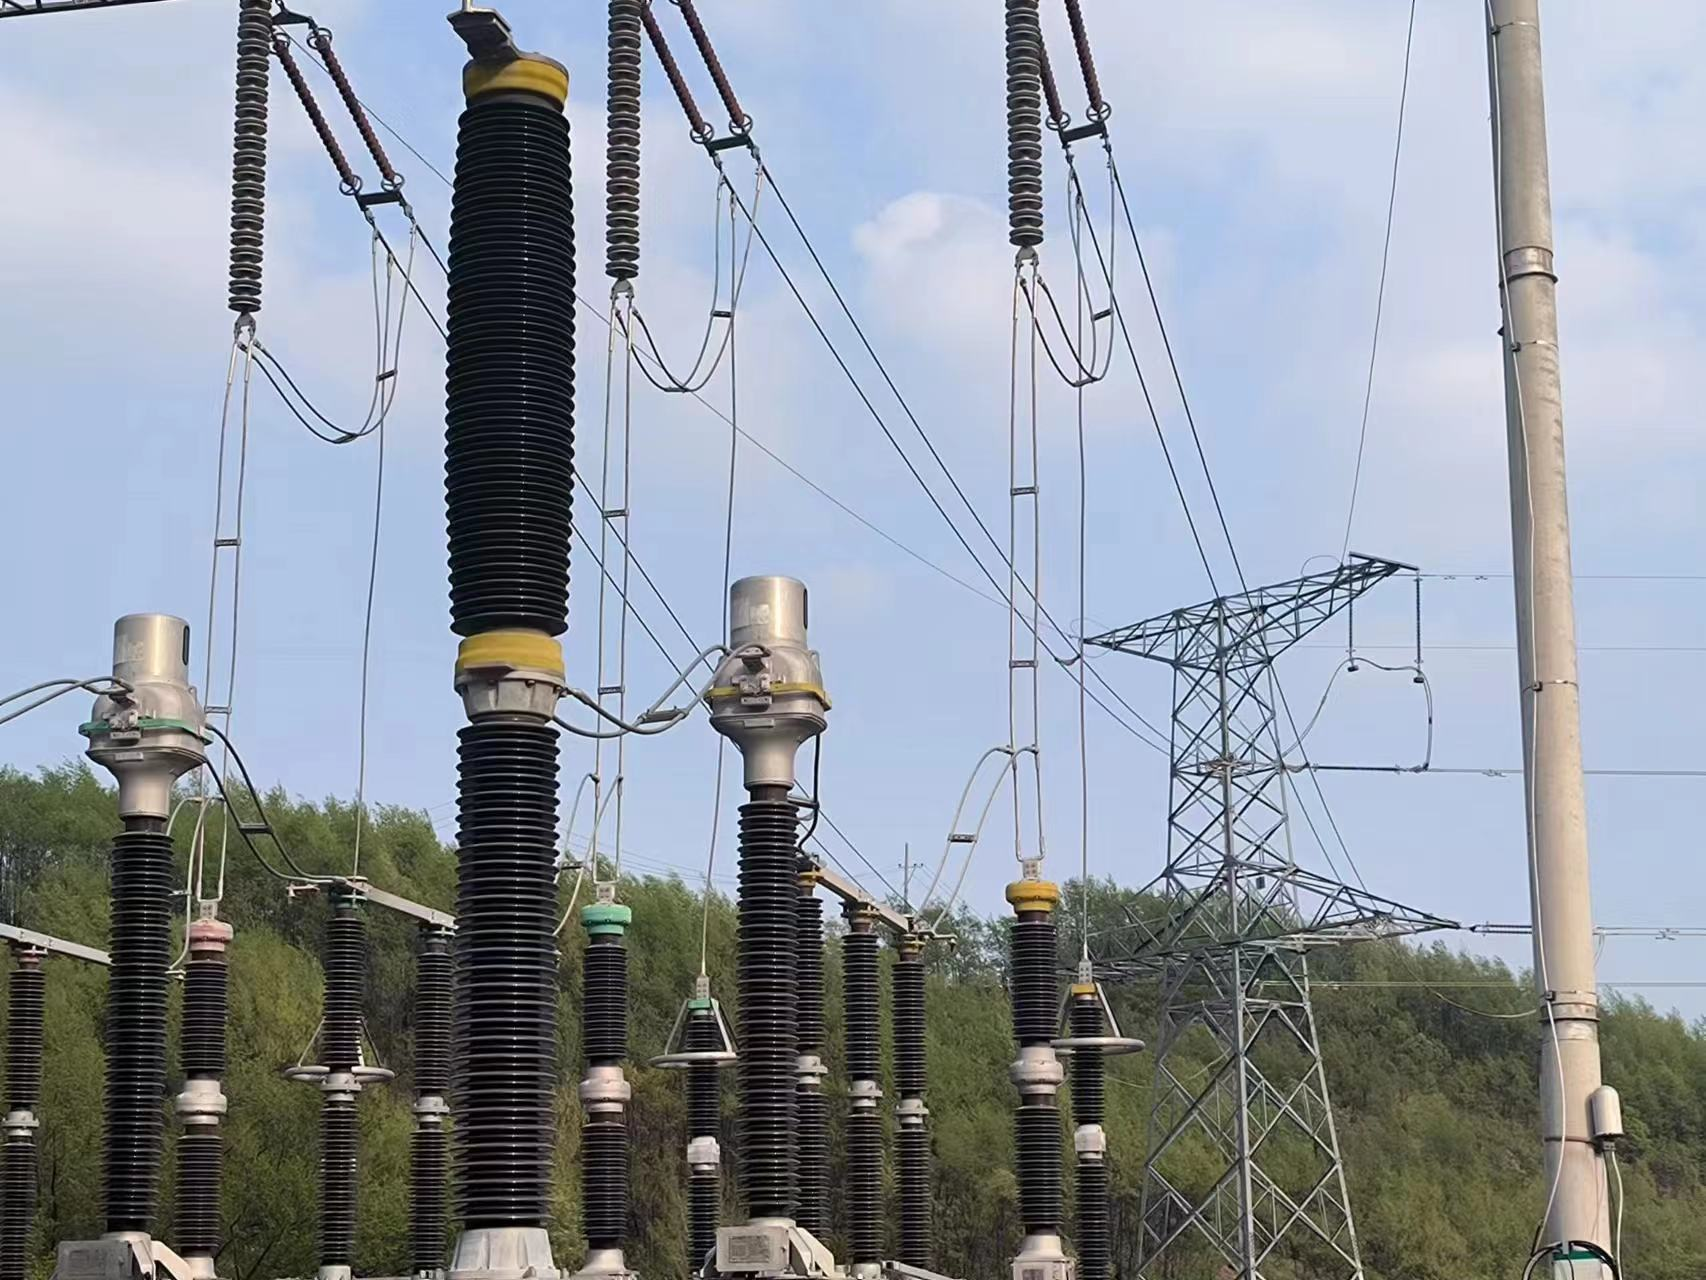Circuit-breaker: (436, 7, 583, 1279)
